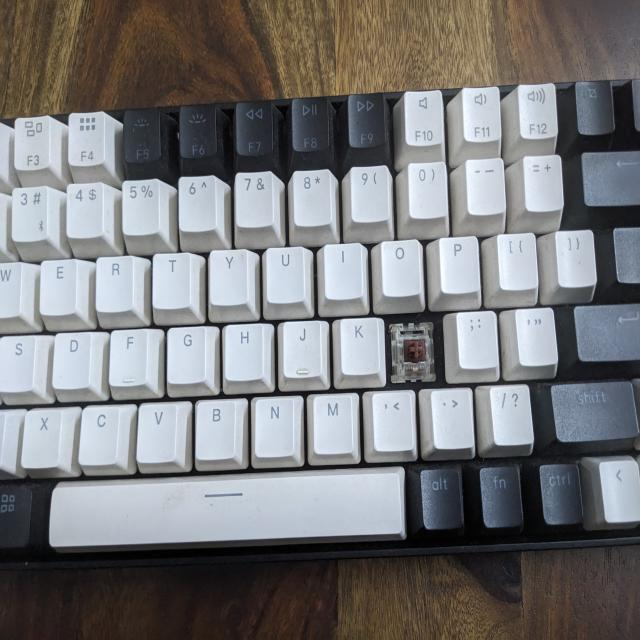C: (389, 321, 439, 380)
